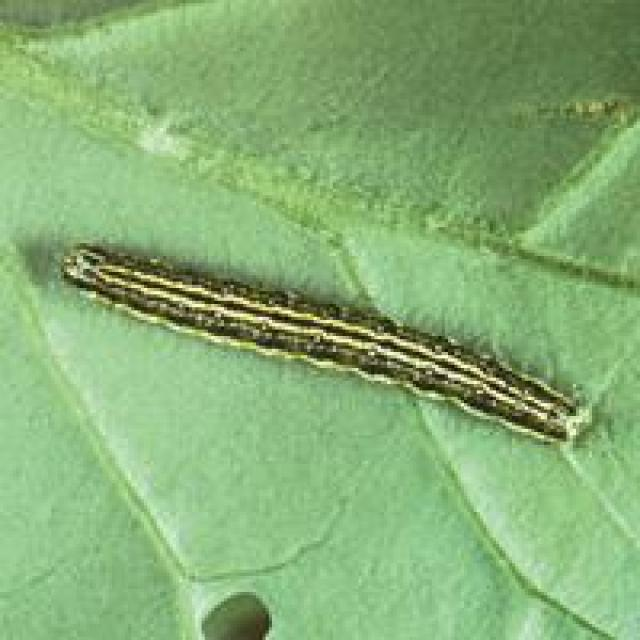BeetArmyWorm-Larva-: (40, 224, 596, 465)
